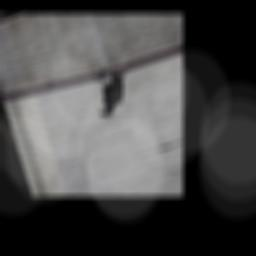Crow: (86, 63, 139, 120)
